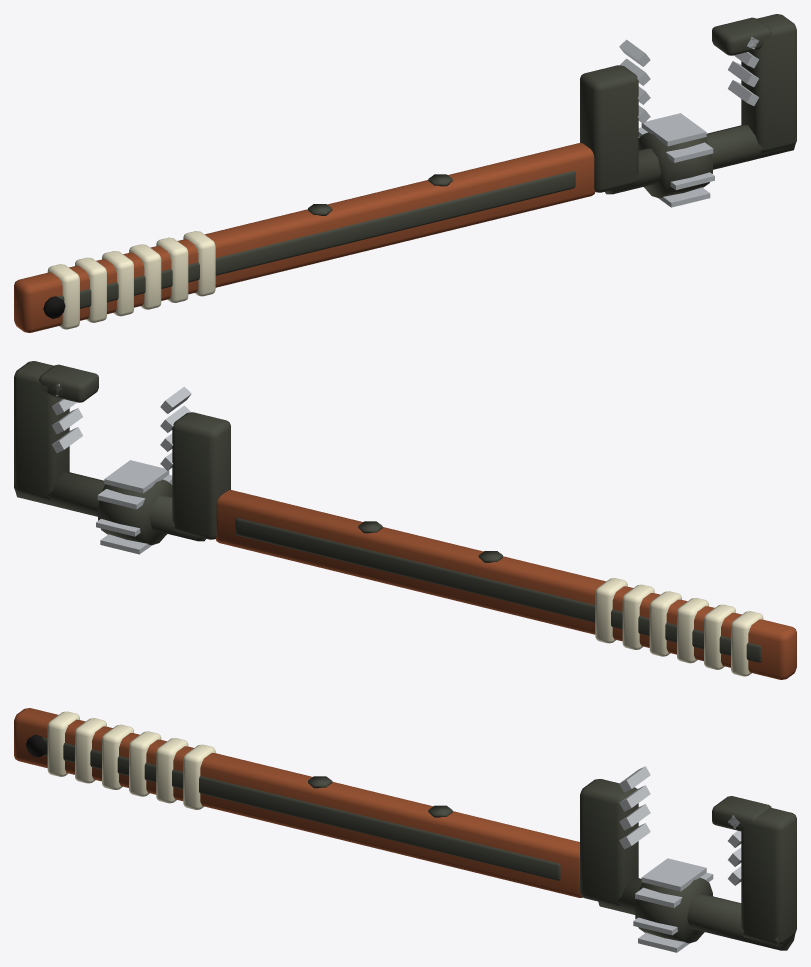
The model's file is item_pipe_wrench.glb.
The picture shows the model from 3 angles, top to bottom: view 1: azimuth 30°, elevation 25°; view 2: azimuth 150°, elevation 25°; view 3: azimuth 330°, elevation 25°; orthographic projection.
Parts seen in each view (by area): view 1: handle, web, heel, hook, shank, nut, hook_lip, knurl_0, tape_3, tape_4, tape_5, tape_0 (+2 smaller); view 2: handle, web, heel, hook, shank, nut, hook_lip, knurl_0, tape_3, tape_4, tape_5, tape_0 (+3 smaller); view 3: handle, web, hook, heel, shank, nut, knurl_0, hook_lip, tape_0, tape_3, tape_4, tape_5 (+4 smaller).
Part boxes in pixels (bbox=[...]): handle: bbox=[14, 143, 595, 332]; web: bbox=[57, 171, 575, 308]; heel: bbox=[580, 65, 638, 192]; hook: bbox=[741, 14, 796, 153]; shank: bbox=[605, 125, 796, 194]; nut: bbox=[638, 132, 712, 198]; hook_lip: bbox=[712, 17, 771, 55]; knurl_0: bbox=[641, 113, 706, 146]; tape_3: bbox=[129, 244, 161, 309]; tape_4: bbox=[156, 237, 188, 302]; tape_5: bbox=[183, 231, 215, 296]; tape_0: bbox=[47, 264, 79, 329]; handle: bbox=[215, 490, 796, 679]; web: bbox=[235, 518, 761, 662]; heel: bbox=[172, 412, 230, 539]; hook: bbox=[14, 361, 69, 500]; shank: bbox=[14, 472, 205, 541]; nut: bbox=[98, 479, 172, 545]; hook_lip: bbox=[39, 364, 98, 402]; knurl_0: bbox=[104, 460, 169, 493]; tape_3: bbox=[649, 591, 681, 656]; tape_4: bbox=[622, 584, 654, 649]; tape_5: bbox=[595, 578, 627, 643]; tape_0: bbox=[731, 611, 763, 676]; handle: bbox=[14, 708, 582, 897]; web: bbox=[42, 737, 560, 880]; hook: bbox=[741, 808, 796, 944]; heel: bbox=[580, 779, 638, 906]; shank: bbox=[598, 878, 795, 950]; nut: bbox=[635, 878, 712, 943]; knurl_0: bbox=[641, 858, 706, 891]; hook_lip: bbox=[712, 796, 771, 831]; tape_0: bbox=[47, 711, 79, 776]; tape_3: bbox=[129, 731, 161, 796]; tape_4: bbox=[156, 738, 188, 803]; tape_5: bbox=[183, 744, 215, 809].
Bounding box in the file's own units: 0.512 × 0.0982 × 0.049.
